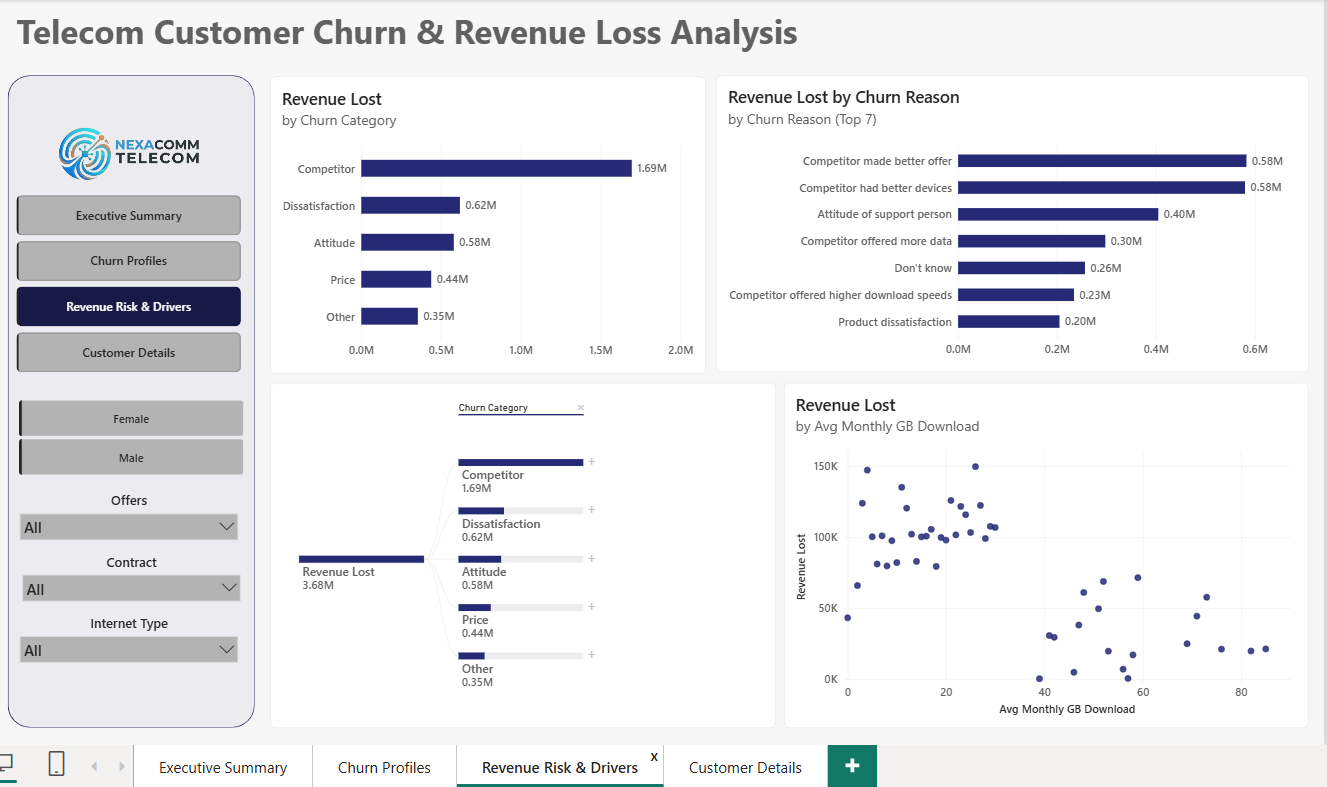

This screenshot's page, from the dashboard's own definition file:
{"tool":"powerbi","page":{"name":"Revenue Risk & Drivers","canvas":[1920,1080],"ordinal":2},"visuals":[{"type":"clusteredBarChart","fields":{"Y":["Calculations.Revenue Lost"],"Category":["dim_ChurnCategory.Churn Category"]},"box":[392.5,111.3,630.2,430.2],"z":0},{"type":"clusteredBarChart","fields":{"Y":["Calculations.Revenue Lost"],"Category":["fact_table.Churn Reason"]},"box":[1038.9,111.1,857.4,429.6],"z":1000},{"type":"scatterChart","fields":{"Y":["Calculations.Revenue Lost"],"X":["fact_table.Avg Monthly GB Download"]},"box":[1137,555.6,759.3,500],"z":2000},{"type":"decompositionTreeVisual","fields":{"Analyze":["Calculations.Revenue Lost"],"ExplainBy":["dim_ChurnCategory.Churn Category","fact_table.Age bins","dim_internet_type.Internet Type","dim_contract.Contract"]},"box":[392.5,554.7,732.1,500],"z":3000},{"type":"textbox","box":[25.9,13,1866.7,79.6],"z":4000},{"type":"shape","box":[13,111.1,357.4,944.4],"z":5000},{"type":"pageNavigator","box":[25.3,284.1,325.7,257],"z":6000},{"type":"advancedSlicerVisual","fields":{"Values":["dim_customer.Gender"]},"box":[29,580.9,325.7,108.6],"z":7000},{"type":"slicer","title":"Offers","fields":{"Values":["dim_offer.Offer"]},"box":[25.3,713,325.7,88.7],"z":8000},{"type":"slicer","title":"Contract","fields":{"Values":["dim_contract.Contract"]},"box":[29,801.7,325.7,88.7],"z":9000},{"type":"slicer","title":"Internet Type","fields":{"Values":["dim_internet_type.Internet Type"]},"box":[25.3,890.4,325.7,88.7],"z":10000},{"type":"image","box":[25.3,177.3,325.7,90.5],"z":11000}]}

Visuals, with their boxes on the page's 1920x1080 design canvas (x1, y1, x2, y2). These are canvas units, not pixel positions in the 1327x787 screenshot, which may show the page scaled, cropped or inside an application window:
clusteredBarChart - Calculations.Revenue Lost x dim_ChurnCategory.Churn Category: 392 111 1023 542
clusteredBarChart - Calculations.Revenue Lost x fact_table.Churn Reason: 1039 111 1896 541
scatterChart - Calculations.Revenue Lost x fact_table.Avg Monthly GB Download: 1137 556 1896 1056
decompositionTreeVisual - Calculations.Revenue Lost x dim_ChurnCategory.Churn Category: 392 555 1125 1055
textbox: 26 13 1893 93
shape: 13 111 370 1056
pageNavigator: 25 284 351 541
advancedSlicerVisual - dim_customer.Gender: 29 581 355 690
"Offers" slicer: 25 713 351 802
"Contract" slicer: 29 802 355 890
"Internet Type" slicer: 25 890 351 979
image: 25 177 351 268
